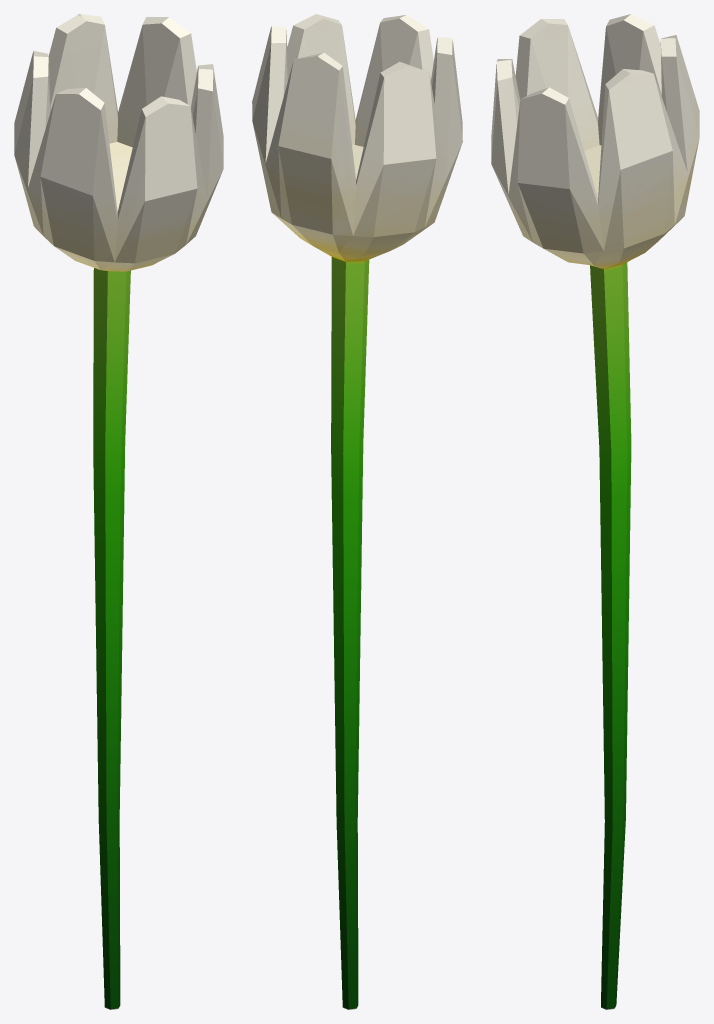
The model's file is Flower.fbx.
The picture shows the model from 3 angles, left to right: view 1: azimuth 30°, elevation 25°; view 2: azimuth 150°, elevation 25°; view 3: azimuth 270°, elevation 25°; orthographic projection.
Parts seen in each view (by area): view 1: Flower1; view 2: Flower1; view 3: Flower1.
Part boxes in pixels (<box>): Flower1: <box>14,14,223,1009</box>; Flower1: <box>252,14,462,1009</box>; Flower1: <box>491,14,699,1009</box>.
Bounding box in the file's own units: 13.09 × 65.95 × 12.86.
1 material, 1 textured.
